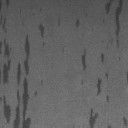red iron: (0, 0, 45, 128), (104, 0, 124, 48), (90, 108, 128, 128), (96, 74, 110, 102), (82, 48, 86, 70), (76, 18, 80, 27), (100, 54, 104, 62)
